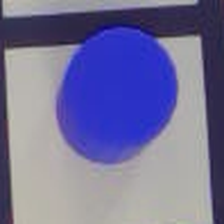empty: (47, 18, 182, 169)
